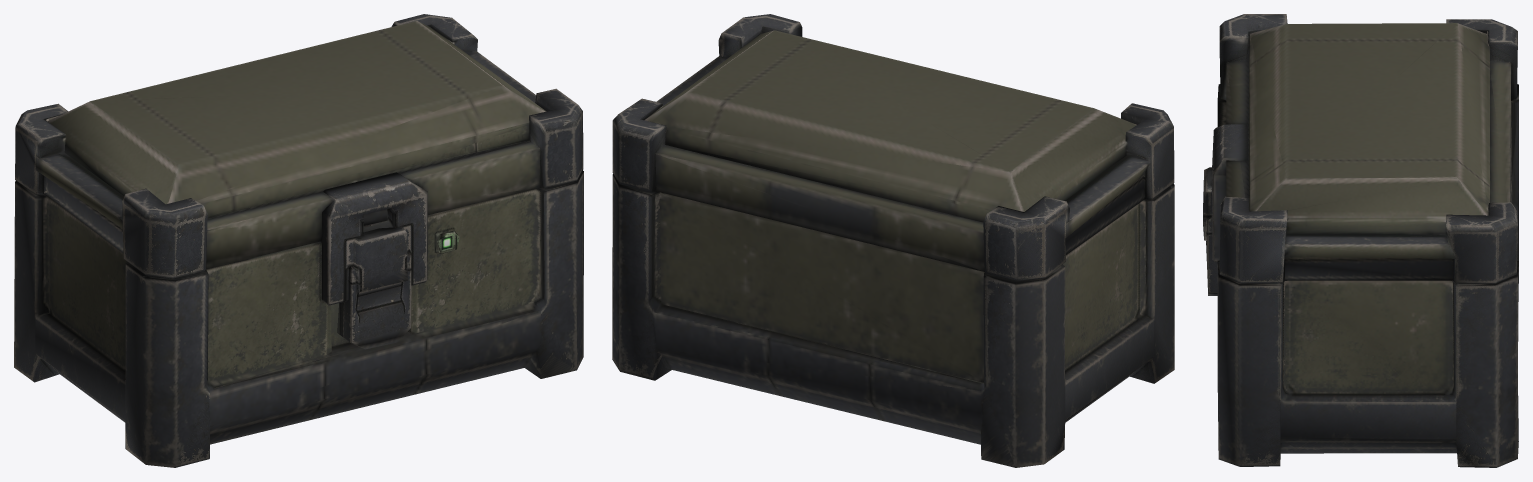
Rendered from Openable Crate.glb.
3 views of the same model, side by side, from view 1: azimuth 30°, elevation 25°; view 2: azimuth 150°, elevation 25°; view 3: azimuth 270°, elevation 25° (orthographic). The views are drawn at different scales.
Size of the model in its own units: 2 by 1.18 by 1.28.
Materials: 1 (1 with a texture image).
